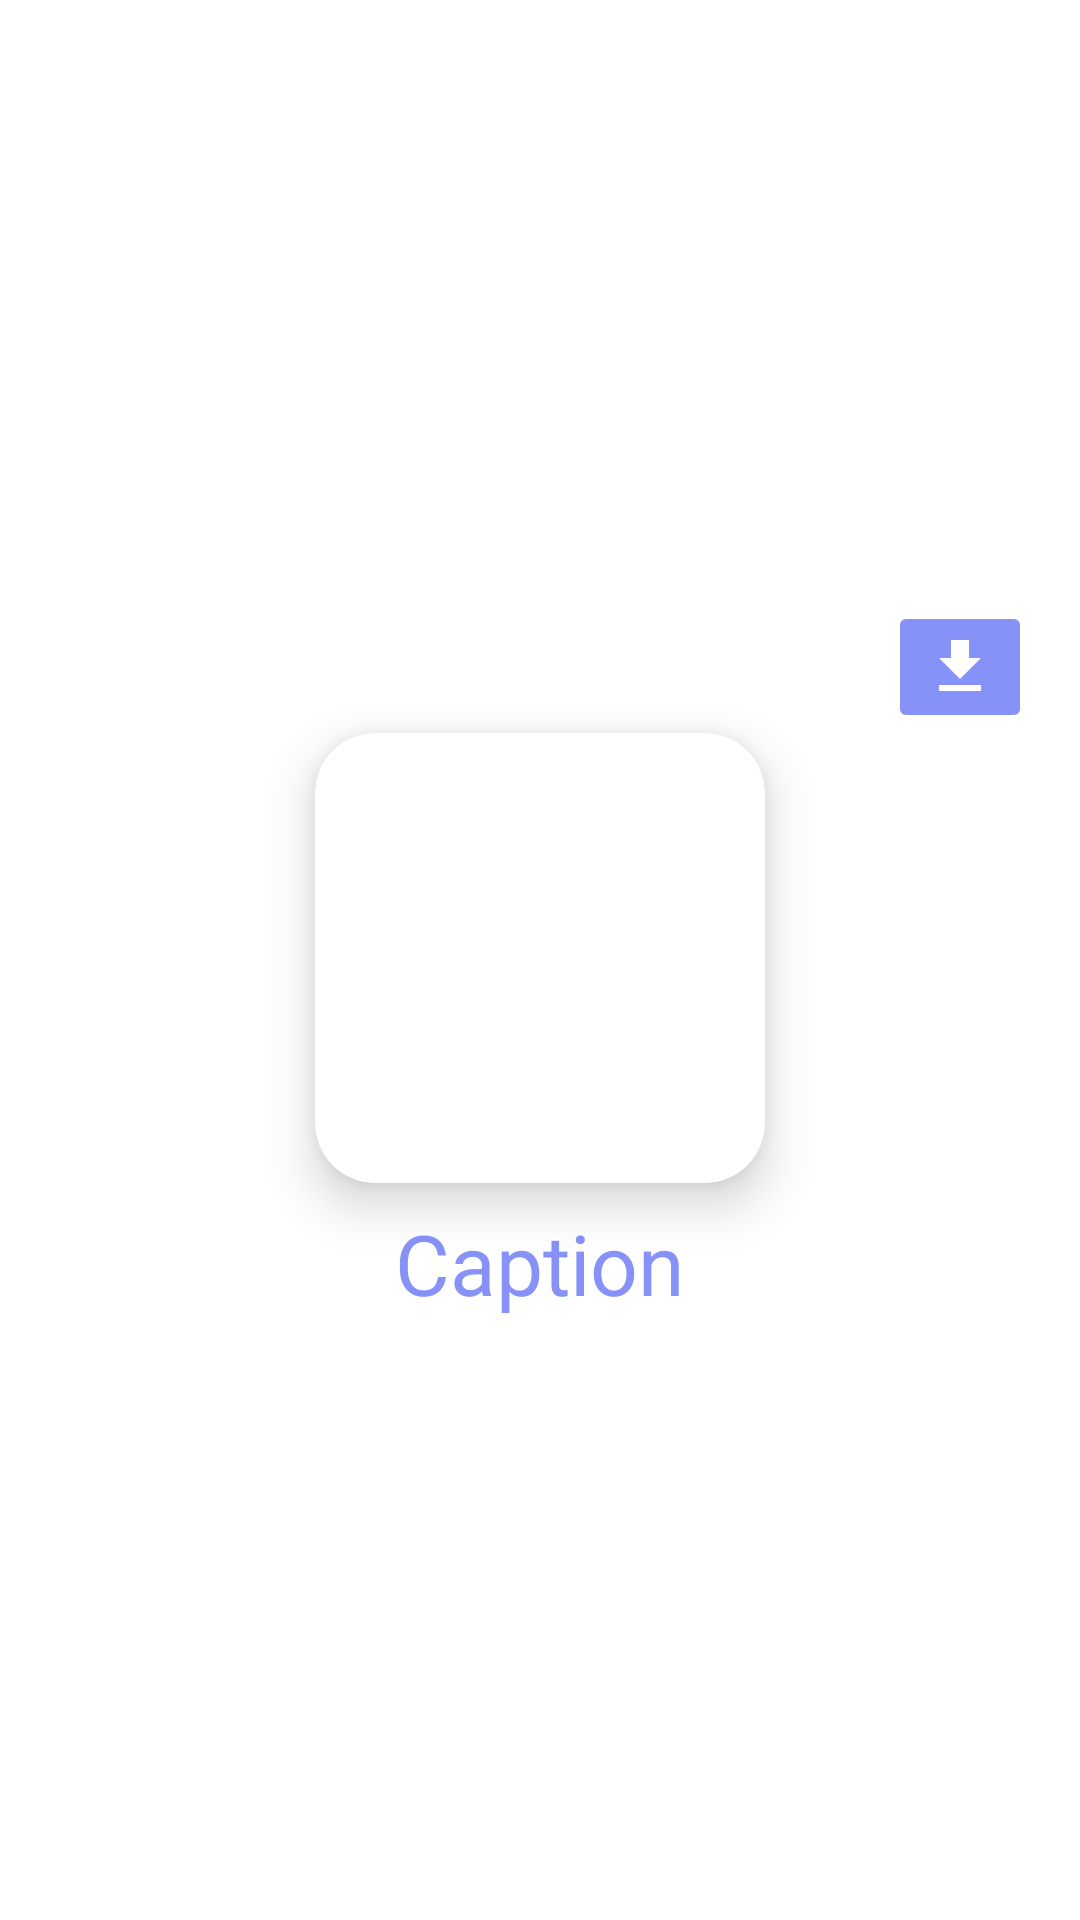

Point at icon controls on the screen. Image size 1080x1920, points as point (x, y).
download: point (960, 667)
